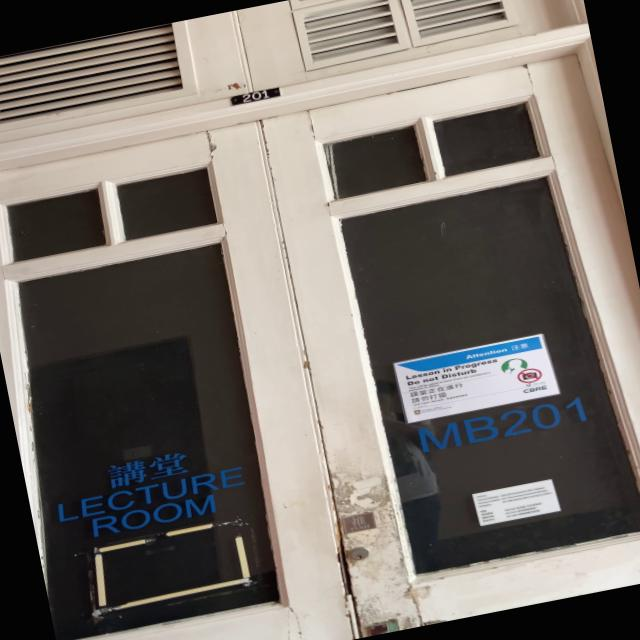room201: (224, 84, 284, 110)
room201Window: (400, 390, 603, 460)
